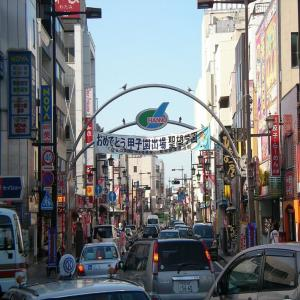Vehicle-registration-plate: (178, 279, 199, 293)
